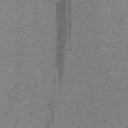red iron: (55, 0, 72, 90)
